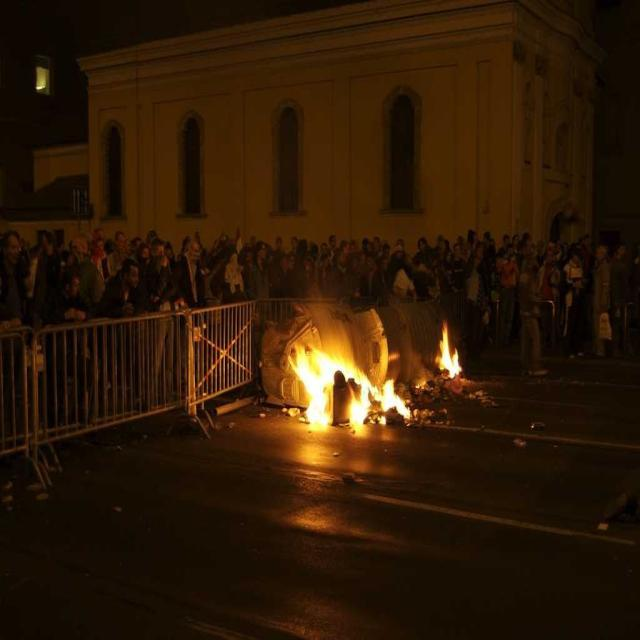Fire: (308, 358, 332, 428), (441, 338, 458, 370), (351, 402, 368, 426), (381, 385, 398, 407)
